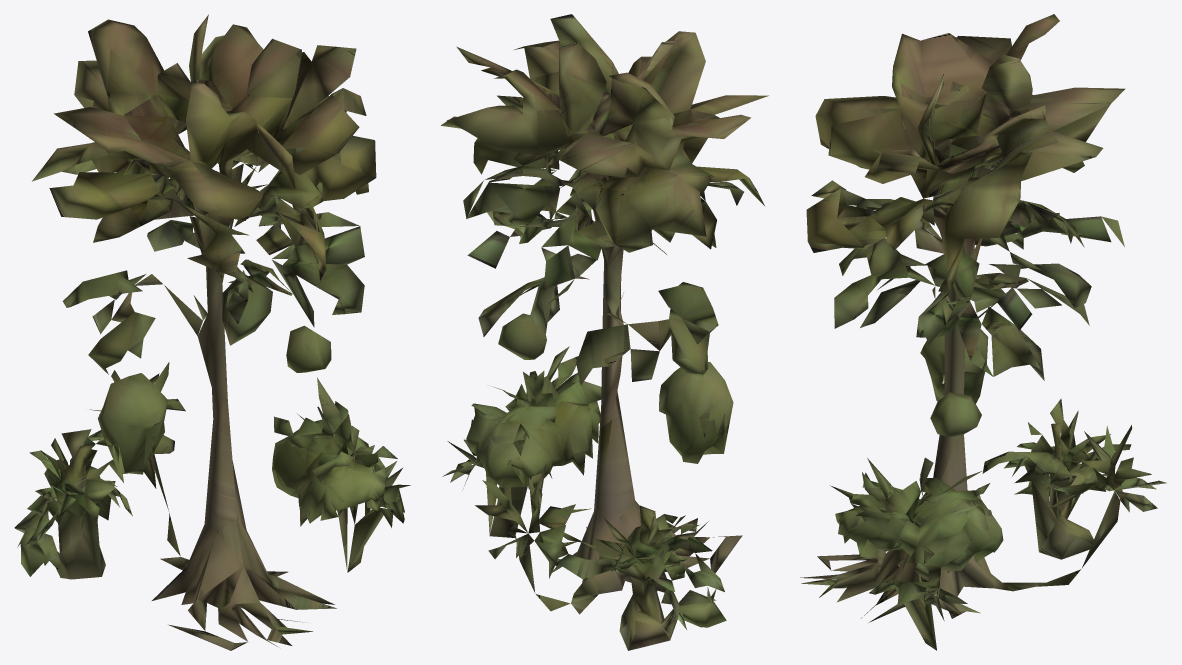
Rendered from JungleTree.glb.
3 views of the same model, side by side, from view 1: azimuth 30°, elevation 25°; view 2: azimuth 150°, elevation 25°; view 3: azimuth 270°, elevation 25° (orthographic).
Bounding box in the file's own units: 1.27 × 2 × 1.24.
1 material, 1 textured.
